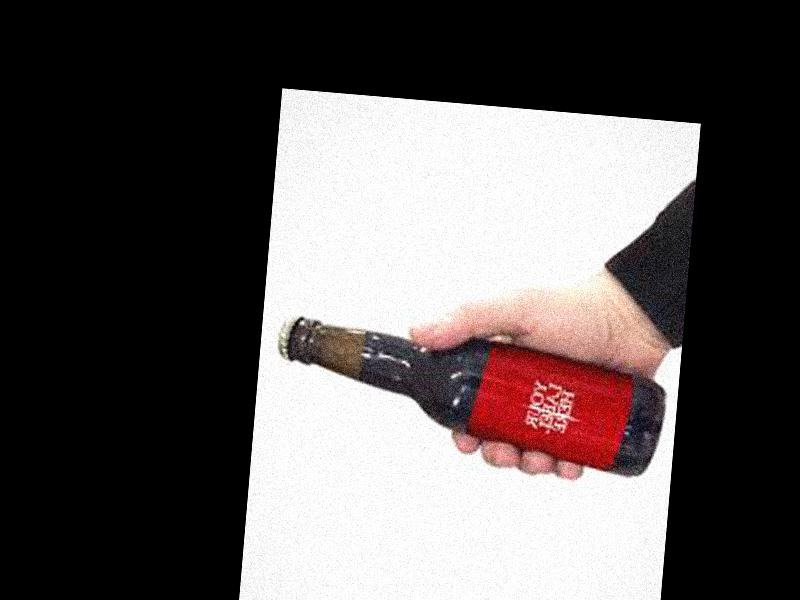Beer: (267, 311, 669, 480)
